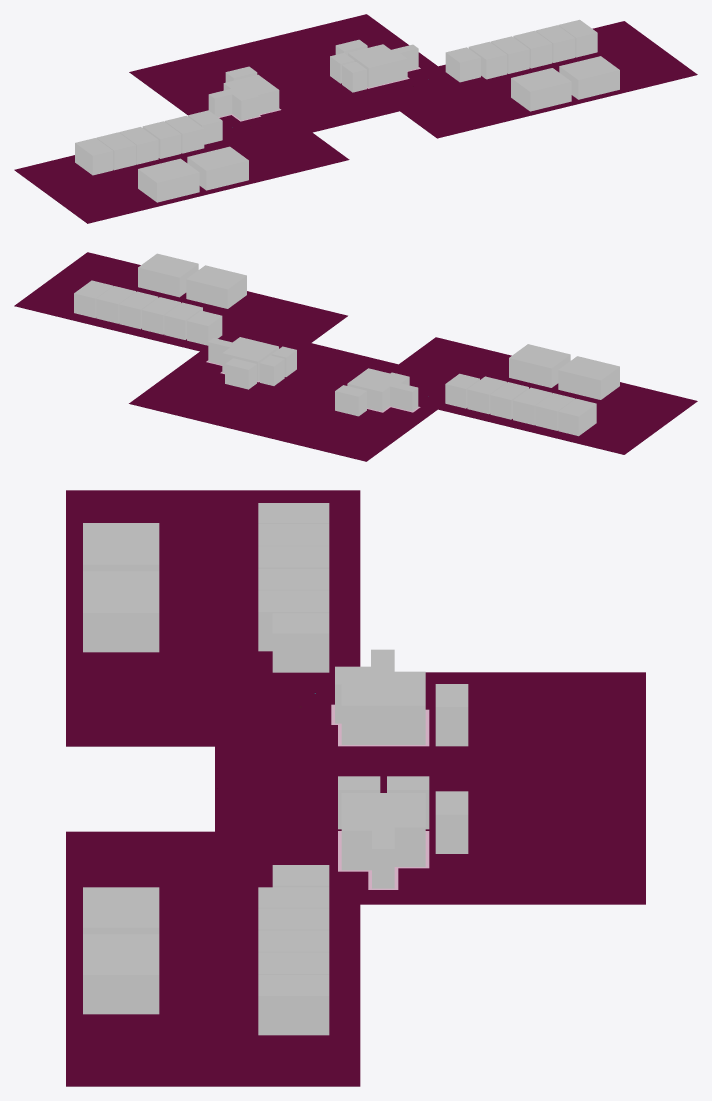
Rendered from njc-l1-canteen-v6-8-5.glb.
3 views of the same model, one above another, from view 1: azimuth 30°, elevation 25°; view 2: azimuth 150°, elevation 25°; view 3: azimuth 270°, elevation 25° (orthographic). The views are drawn at different scales.
Visible parts, largest first — view 1: Base, None, Mtoilet, C13, Ftoilet, C15, C14, C16, C1, C7, C8, C11 (+7 smaller); view 2: Base, None, Mtoilet, C13, C15, C14, C16, Ftoilet, C1, C7, C2, C11 (+9 smaller); view 3: Base, Mtoilet, Ftoilet, C14, C16, None, C12, C13, C15, C6, CE1, CE2 (+9 smaller).
Part boxes in pixels (x1,y1,x2,y2): Base: (14,14,697,223); None: (119,30,552,164); Mtoilet: (208,74,279,120); C13: (138,158,199,202); Ftoilet: (348,44,418,87); C15: (511,68,571,111); C14: (187,146,248,190); C16: (559,56,619,99); C1: (75,138,113,175); C7: (445,47,480,82); C8: (468,41,507,79); C11: (535,25,575,62); Base: (14,252,697,461); None: (119,291,552,425); Mtoilet: (347,368,418,411); C13: (558,356,619,399); C15: (186,265,246,308); C14: (509,344,570,387); C16: (138,253,198,297); Ftoilet: (208,337,278,381); C1: (558,398,596,436); C7: (187,310,222,345); C2: (535,393,575,430); C11: (96,286,135,323); Base: (66,490,645,1086); Mtoilet: (335,649,425,744); Ftoilet: (341,793,425,888); C14: (83,571,159,652); C16: (83,934,159,1014); None: (258,546,329,952); C12: (258,975,329,1035); C13: (83,523,159,571); C15: (83,887,159,934); C6: (272,613,329,672); CE1: (435,791,468,853); CE2: (435,684,468,746).
Size of the model in its own units: 6.44 by 0.2 by 2.65.
